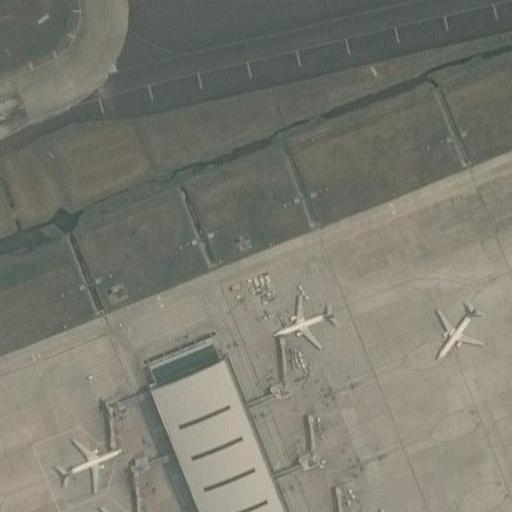Aircraft: (427, 292, 486, 366), (275, 291, 335, 348), (58, 434, 121, 488), (83, 506, 143, 512), (354, 510, 418, 512)
